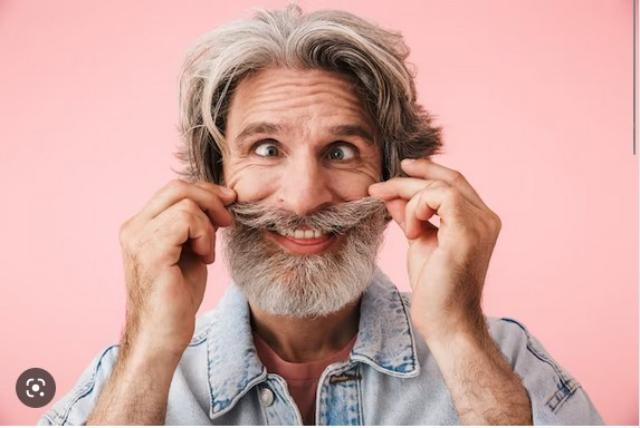crows_feet: (357, 154, 377, 180)
forehead: (336, 81, 358, 117), (295, 74, 329, 96), (258, 77, 290, 97)
gummy_smile: (329, 184, 353, 208), (250, 186, 272, 204)
